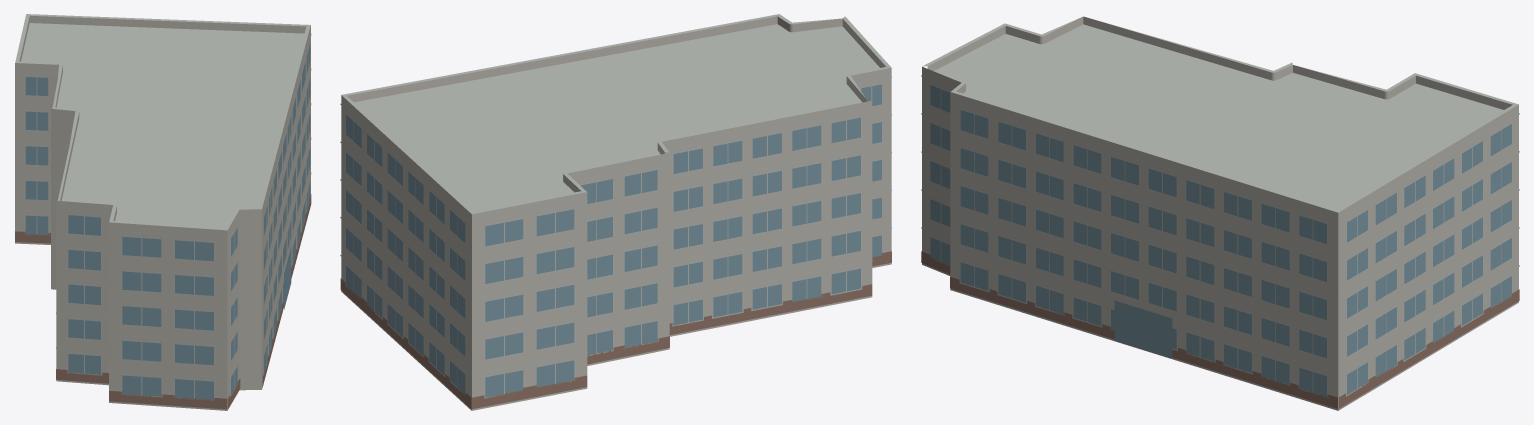
File: public-5a6cfc77-7c64-454a-963e-fc69999cb5d8.glb
3 views of the same model, side by side, from view 1: azimuth 30°, elevation 25°; view 2: azimuth 150°, elevation 25°; view 3: azimuth 270°, elevation 25° (orthographic). The views are drawn at different scales.
Parts seen in each view (by area): view 1: public-5a6cfc77-7c64-454a-963e-fc69999cb5d8; view 2: public-5a6cfc77-7c64-454a-963e-fc69999cb5d8; view 3: public-5a6cfc77-7c64-454a-963e-fc69999cb5d8.
Part boxes in pixels (x1,y1,x2,y2): public-5a6cfc77-7c64-454a-963e-fc69999cb5d8: (15, 14, 311, 410); public-5a6cfc77-7c64-454a-963e-fc69999cb5d8: (340, 14, 891, 410); public-5a6cfc77-7c64-454a-963e-fc69999cb5d8: (921, 16, 1519, 410).
Bounding box in the file's own units: 32.91 × 15.25 × 41.75.
